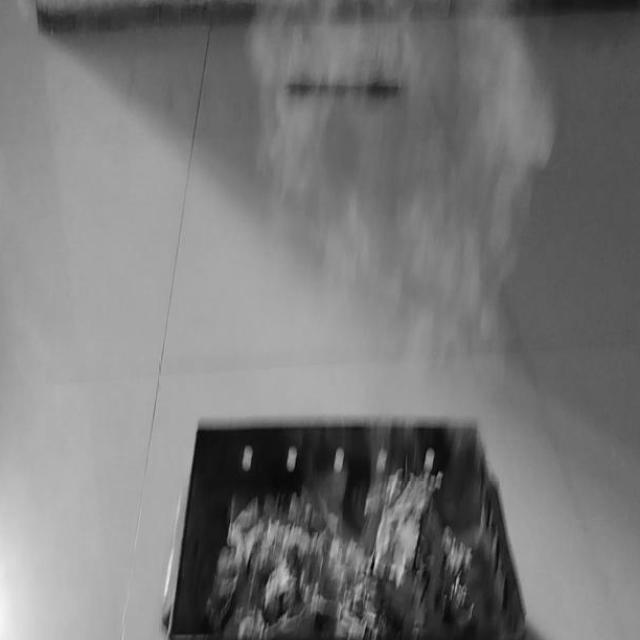fire: (258, 0, 529, 345)
